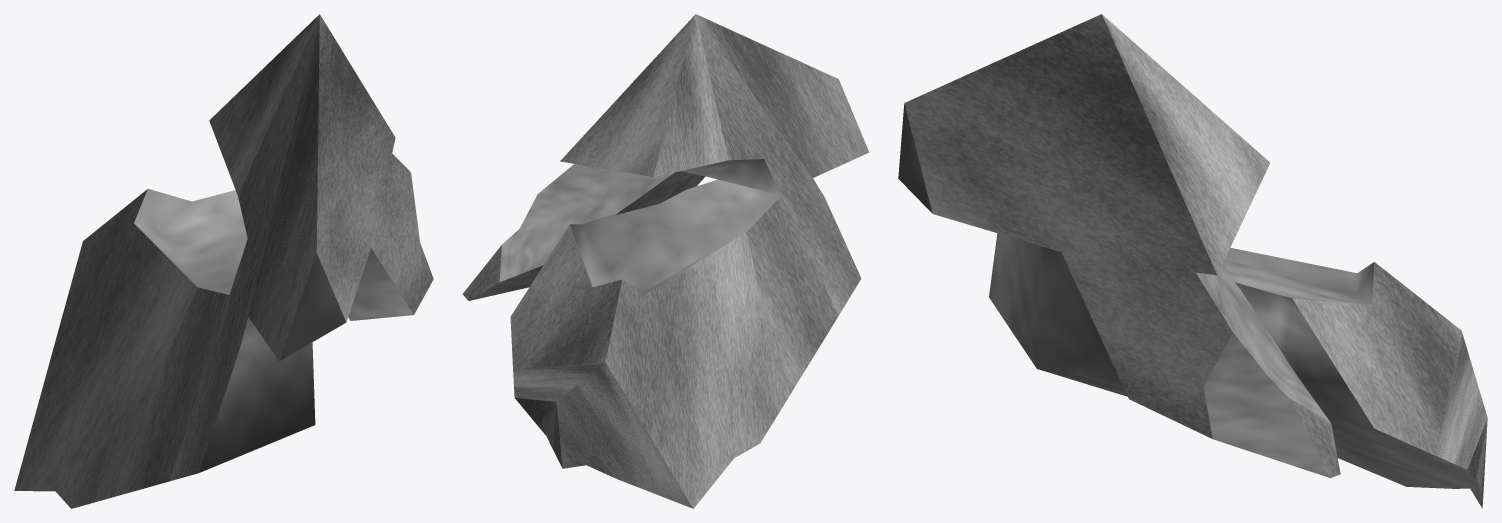
Rendered from body_cell_064.fbx.
The picture shows the model from 3 angles, left to right: view 1: azimuth 30°, elevation 25°; view 2: azimuth 150°, elevation 25°; view 3: azimuth 270°, elevation 25°; orthographic projection. The views are drawn at different scales.
Visible parts, largest first — view 1: body_cell.064; view 2: body_cell.064; view 3: body_cell.064.
Boxes of the visible parts, left/top/right/bottom form: body_cell.064: left=14, top=14, right=433, bottom=508; body_cell.064: left=462, top=14, right=869, bottom=508; body_cell.064: left=898, top=14, right=1487, bottom=508.
Size of the model in its own units: 19.16 by 25.73 by 25.19.
